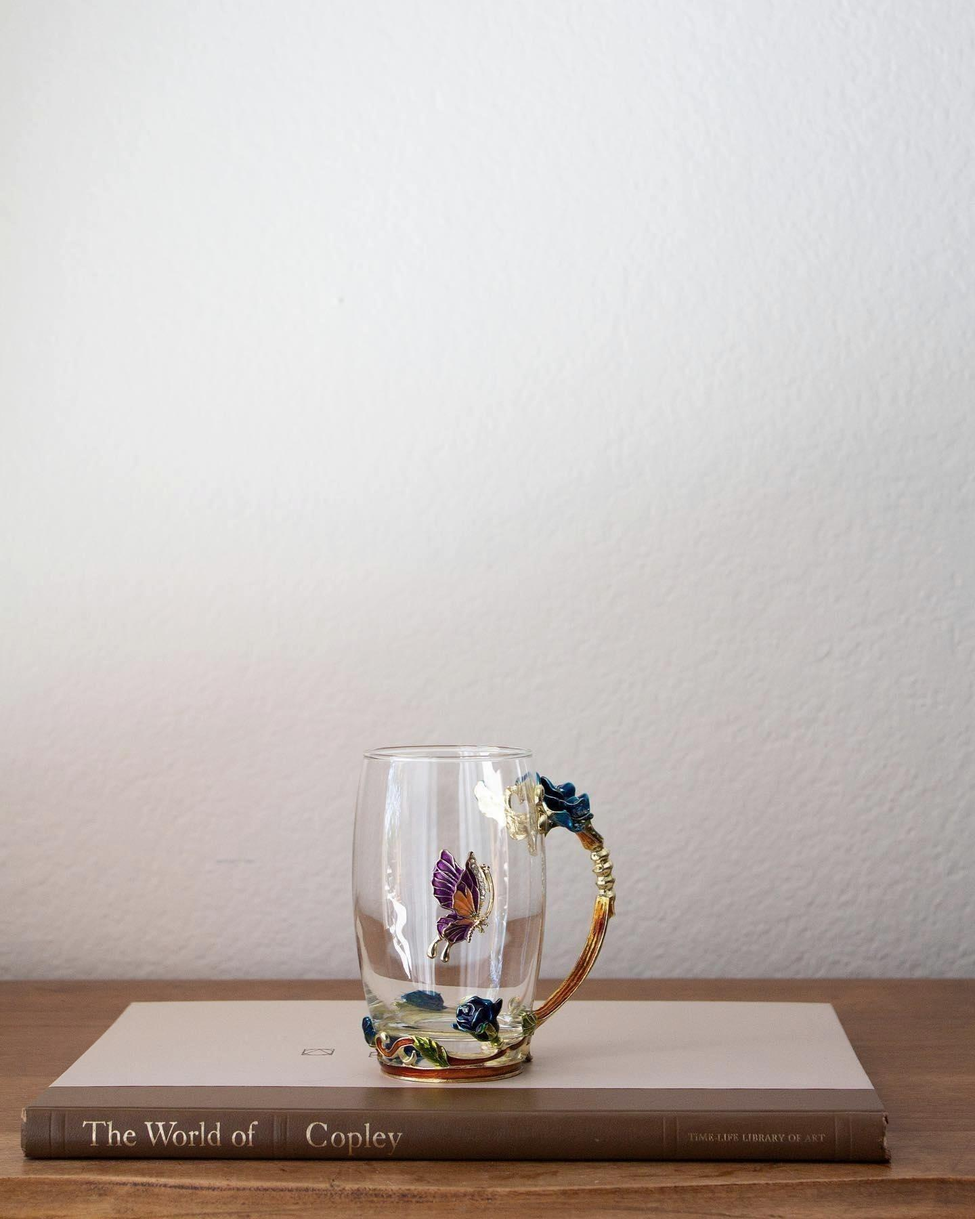glass-mug: (339, 735, 623, 1103)
